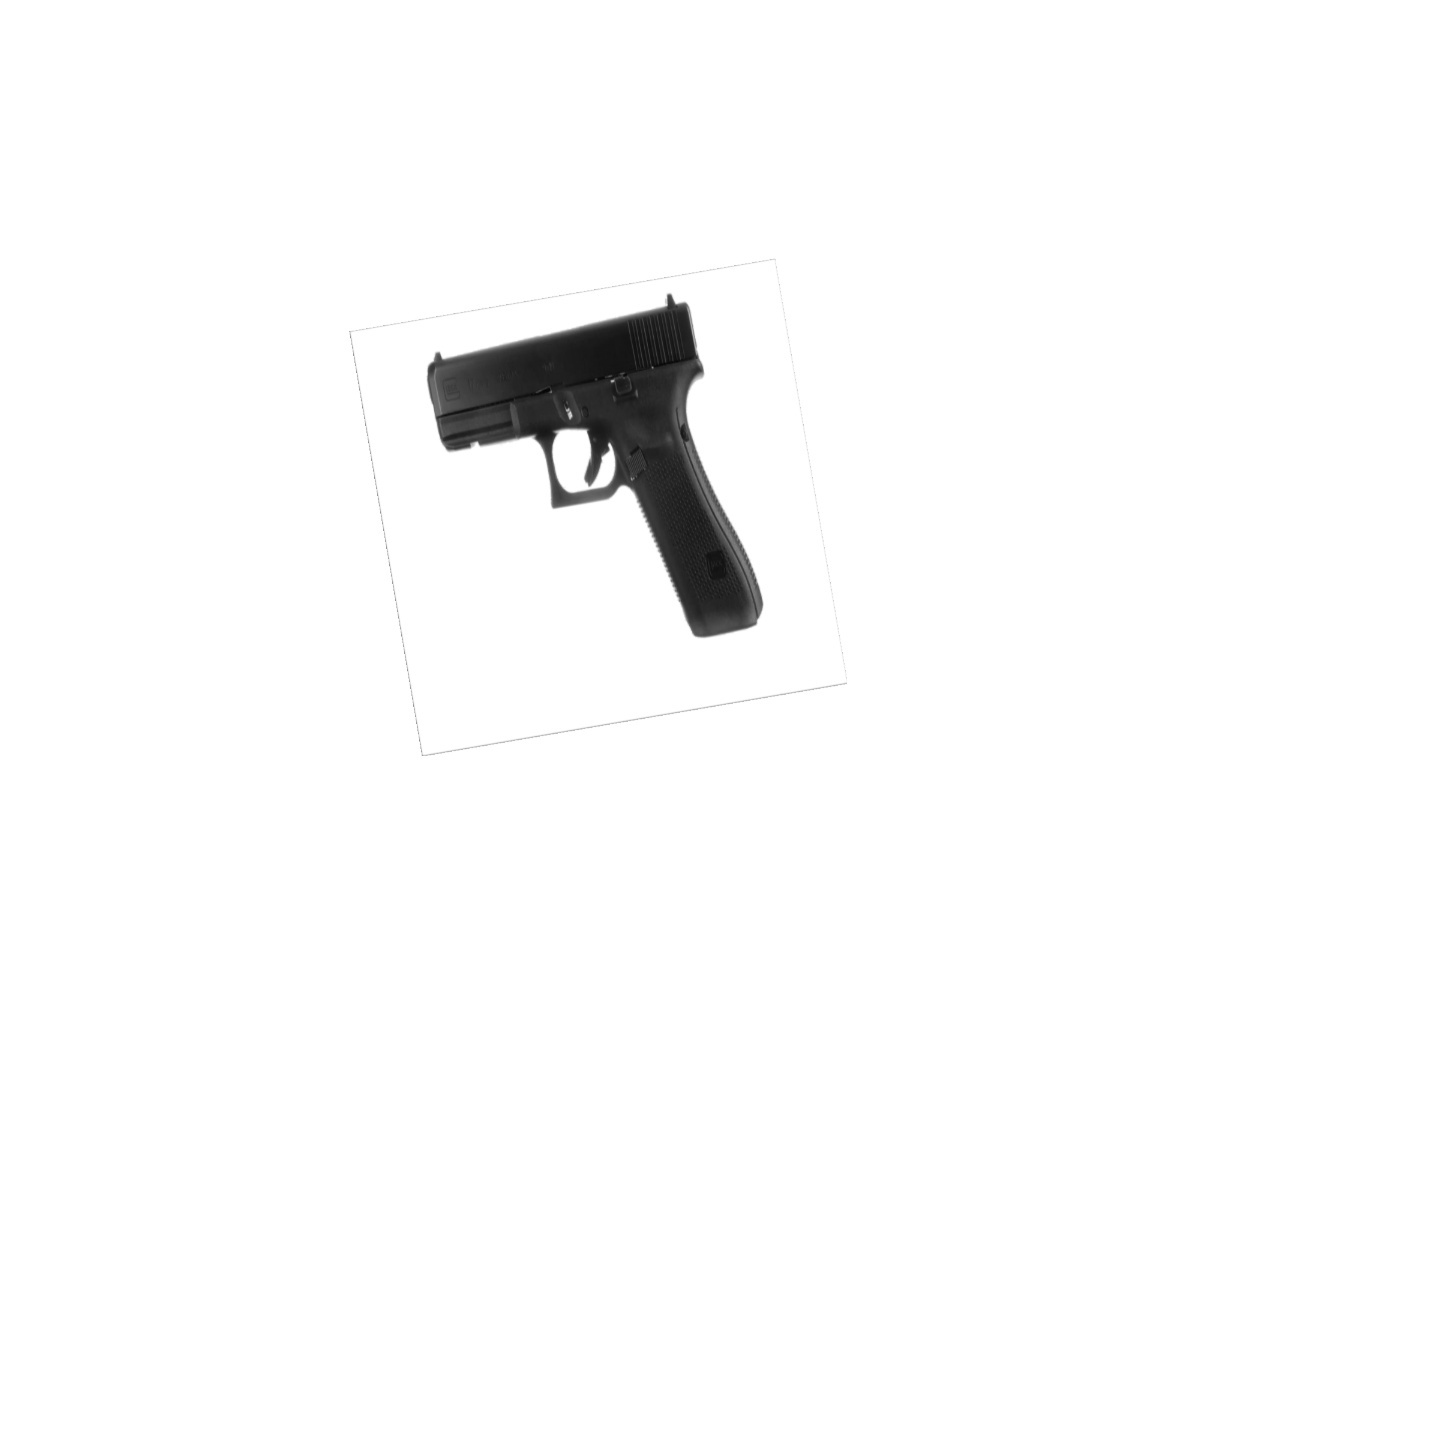gun: (417, 290, 772, 645)
